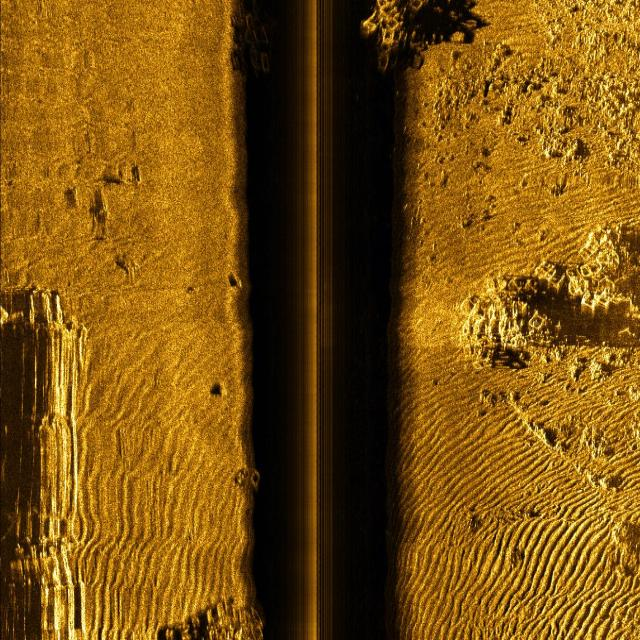artificial reef: (462, 230, 592, 381), (230, 0, 292, 121), (364, 0, 429, 77), (240, 465, 288, 553)
